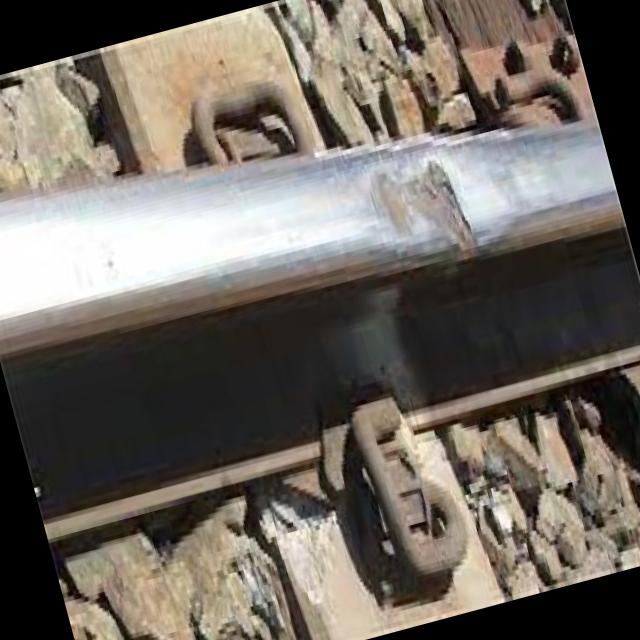defective: (290, 70, 564, 384)
